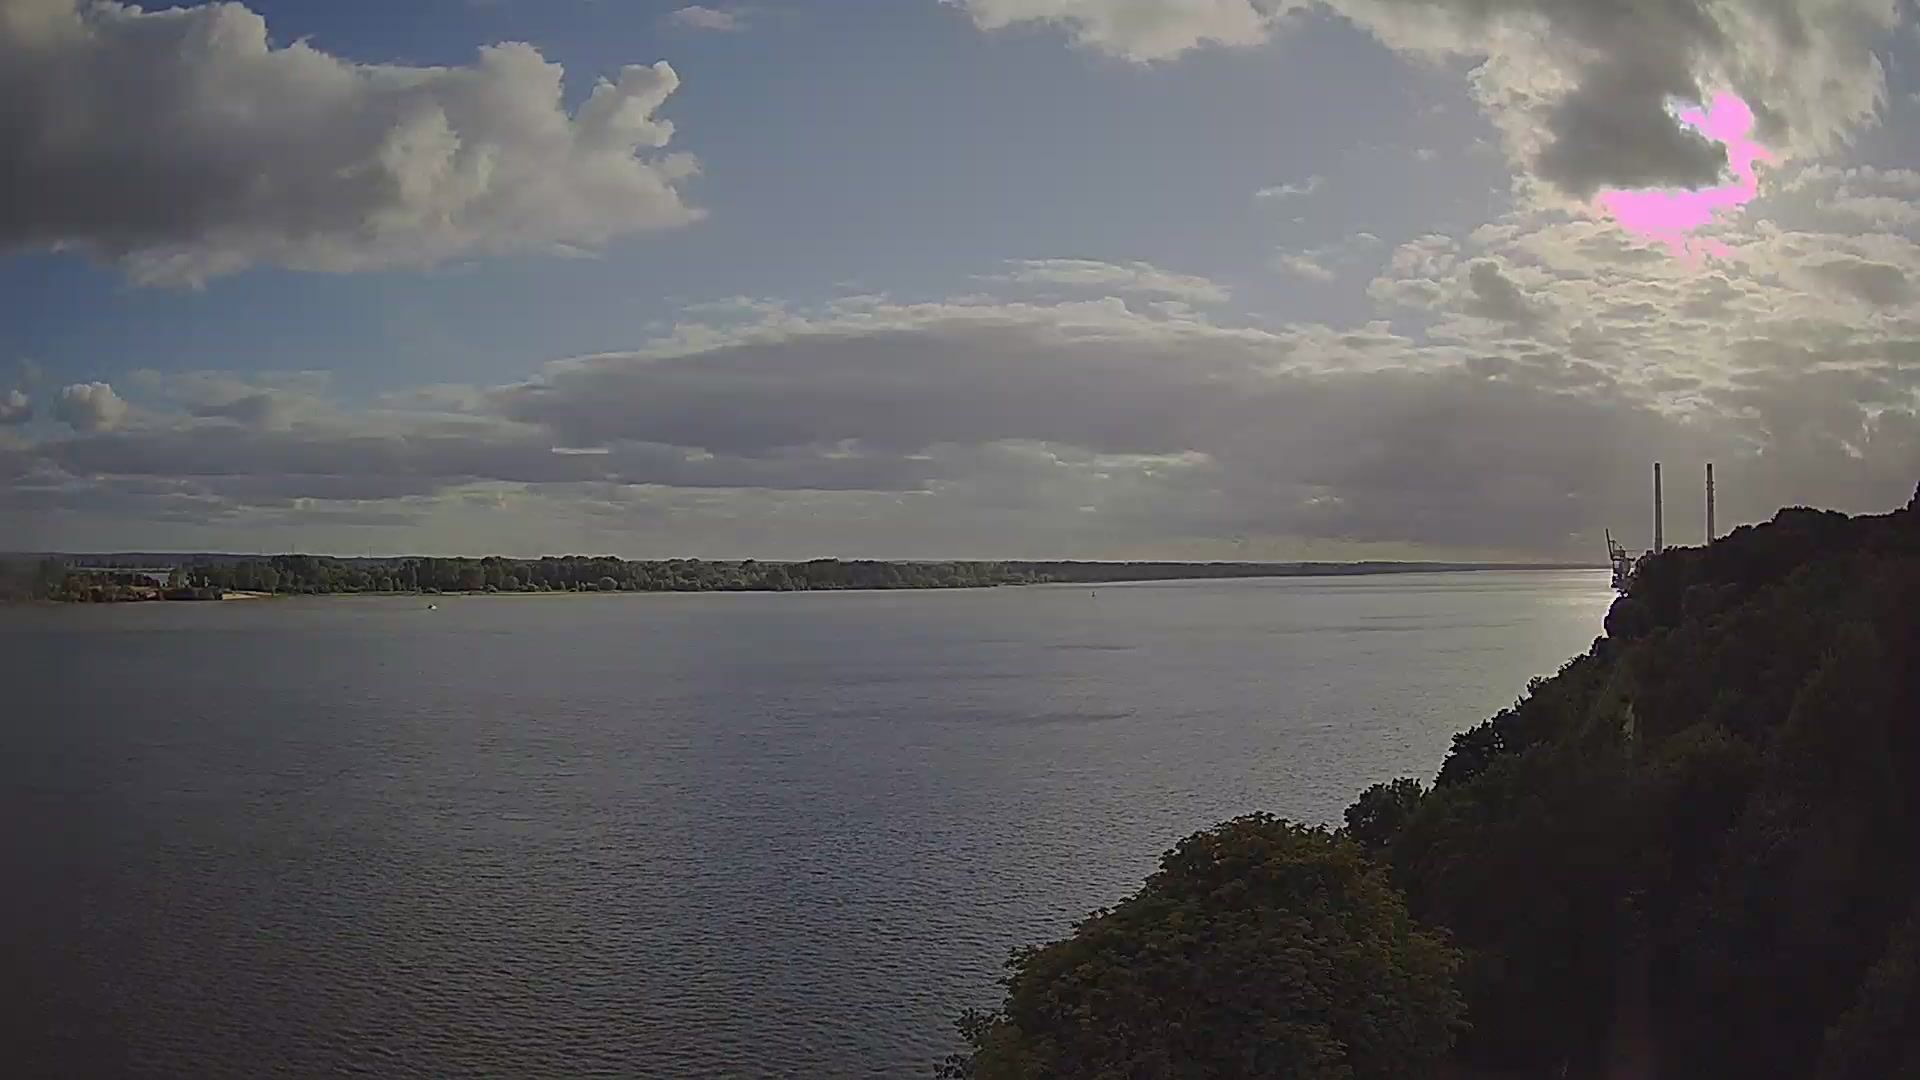sea: (427, 603, 436, 611)
